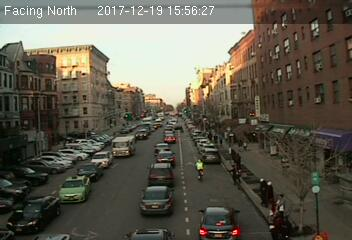bicycle: (194, 158, 205, 182)
car: (6, 195, 61, 234), (195, 206, 243, 240), (139, 187, 174, 215), (57, 175, 90, 202), (146, 162, 177, 185), (76, 163, 101, 180), (92, 152, 112, 167), (156, 150, 177, 163), (203, 148, 220, 161), (154, 142, 171, 151), (135, 128, 147, 138), (164, 134, 177, 143)
pedestrian: (228, 162, 242, 186)
truck: (113, 136, 134, 157)
